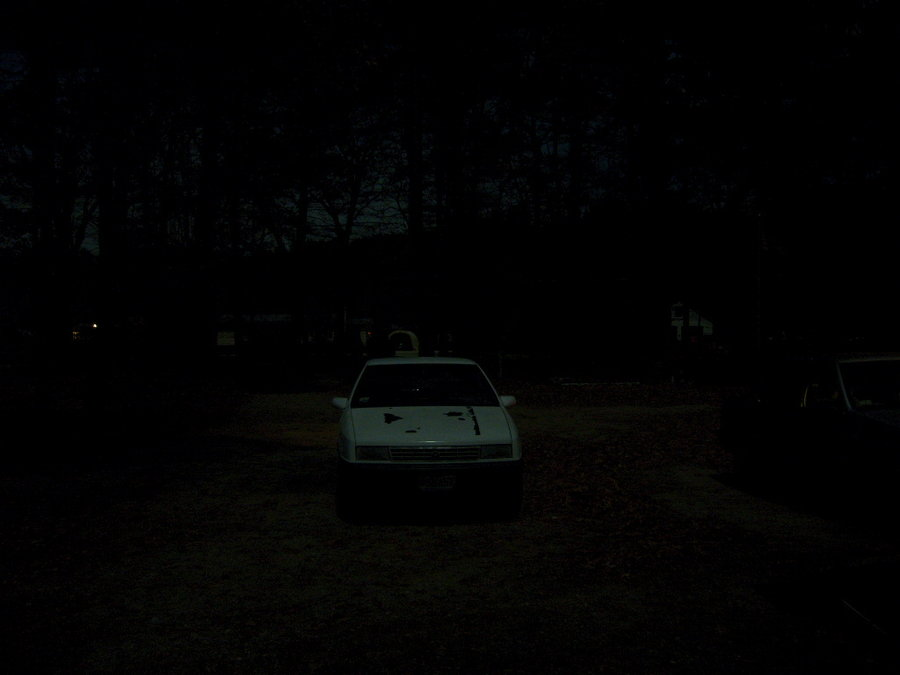car: (326, 346, 538, 518)
